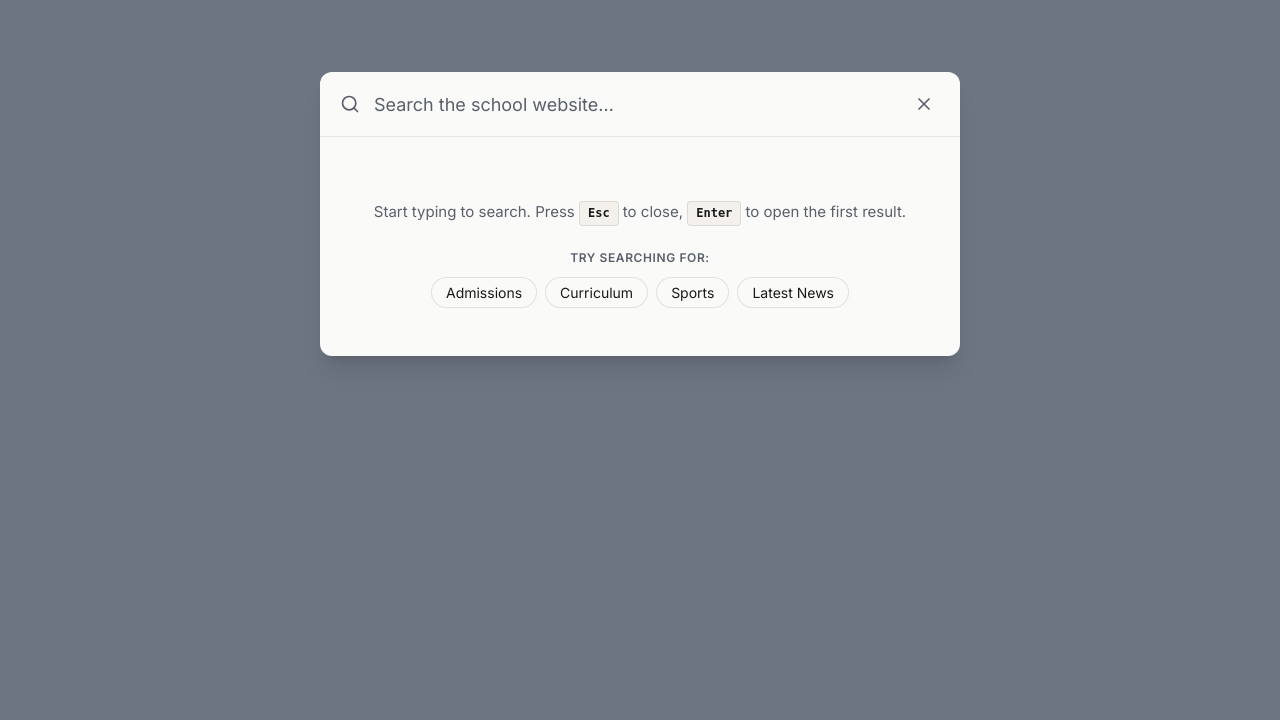
it: SearchOverlay › respects the maxResults cap
Type "test" into the field named "search query".
click(634, 104); type("test")  # box x1=372 y1=90 x2=896 y2=118
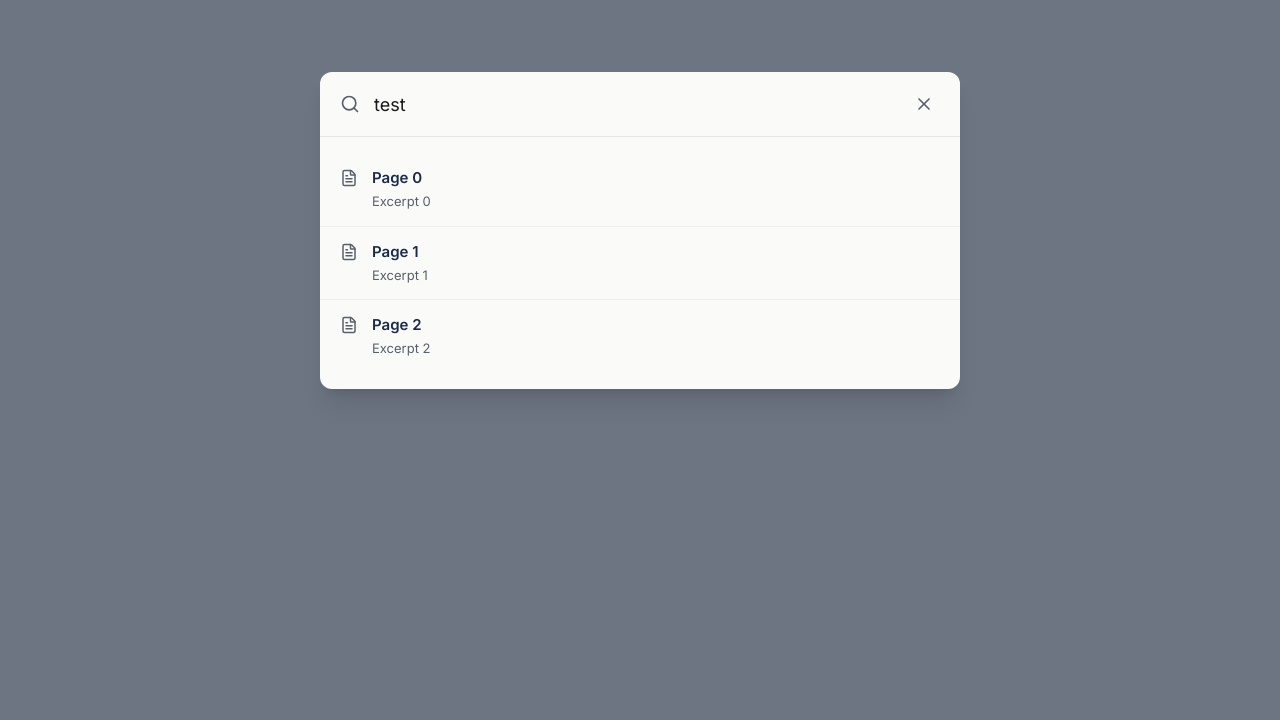
Check: the text "Page 0" is shown, box x1=372 y1=168 x2=422 y2=187
Check: the number of list items is 3, box x1=320 y1=153 x2=960 y2=226; x1=320 y1=226 x2=960 y2=300; x1=340 y1=315 x2=430 y2=356
